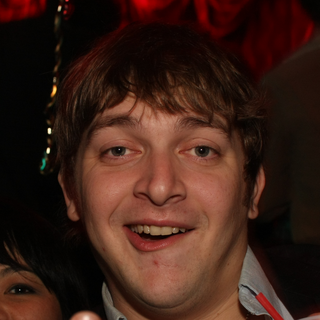eye: (97, 136, 144, 167), (171, 140, 225, 166)
